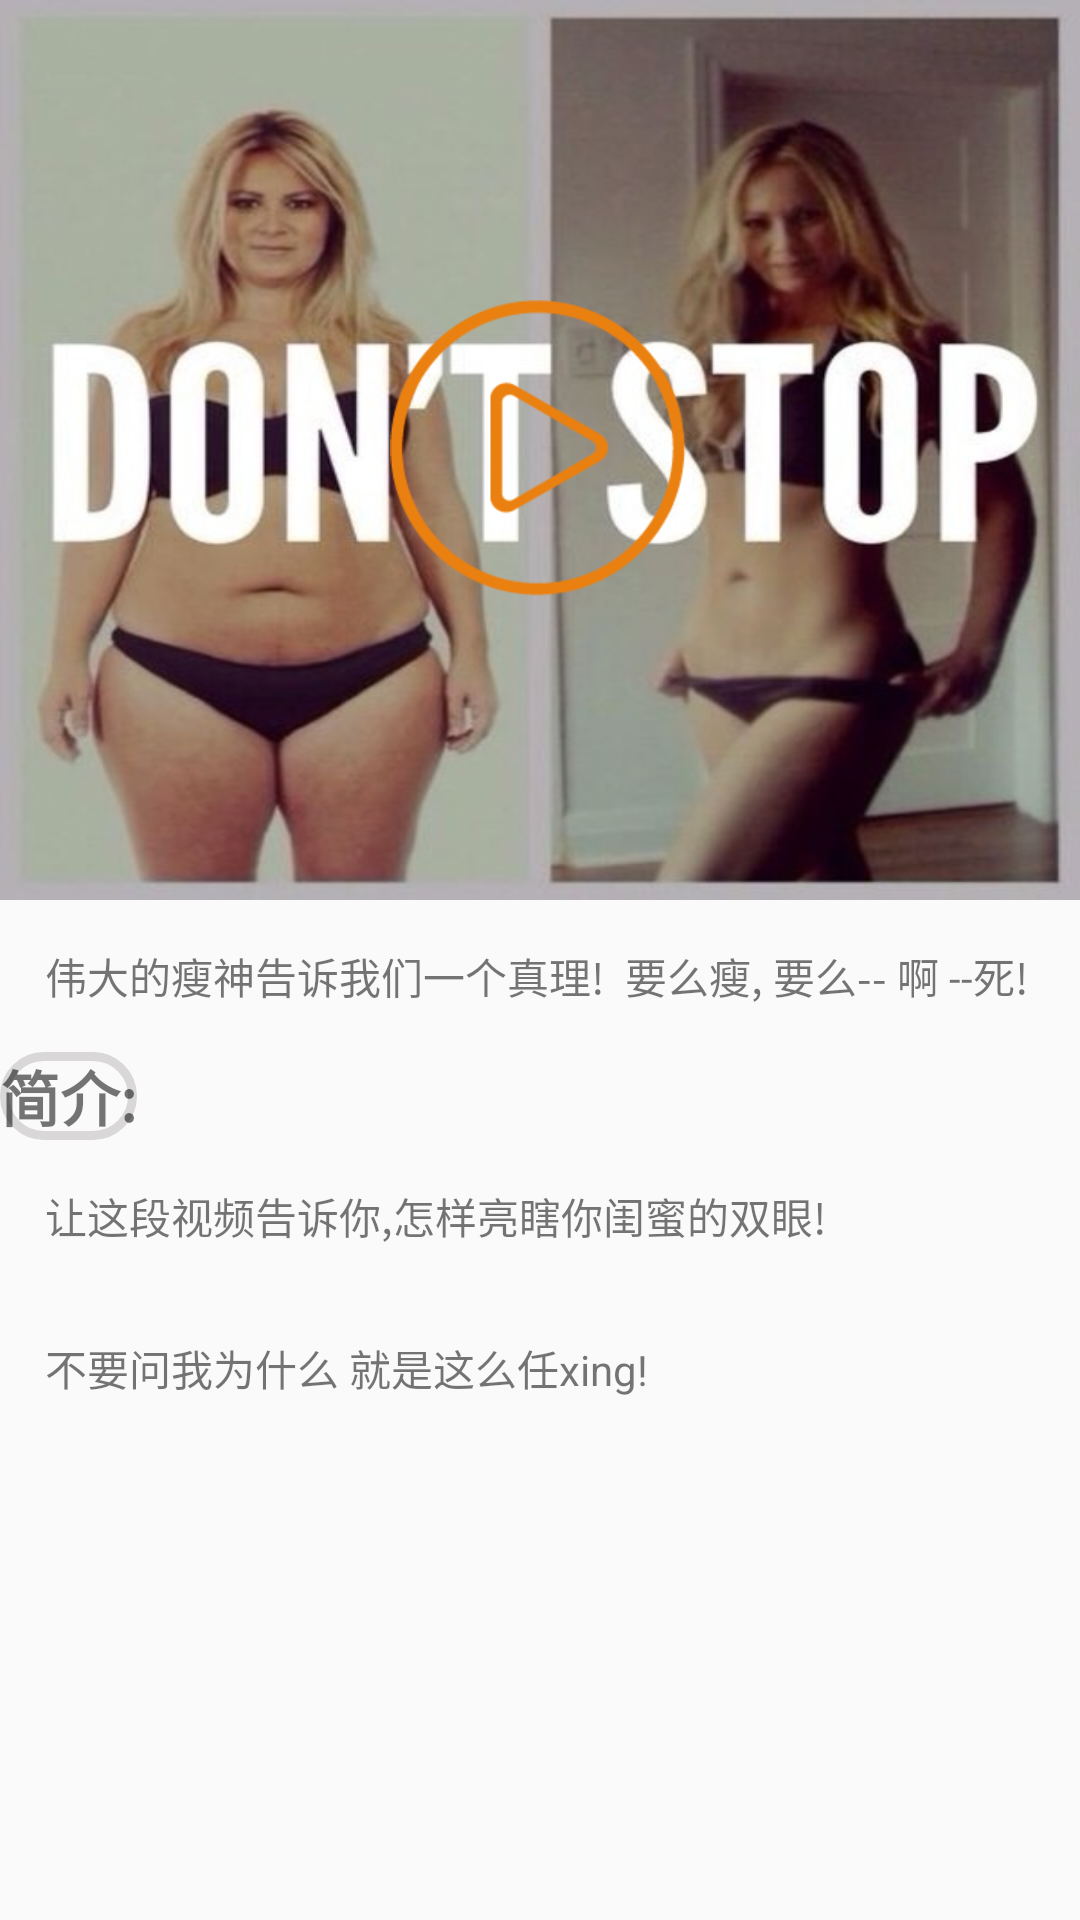

Where to tap for icons on this 1080 x 1920 app screen, as (x,y):
play: (540,450)
